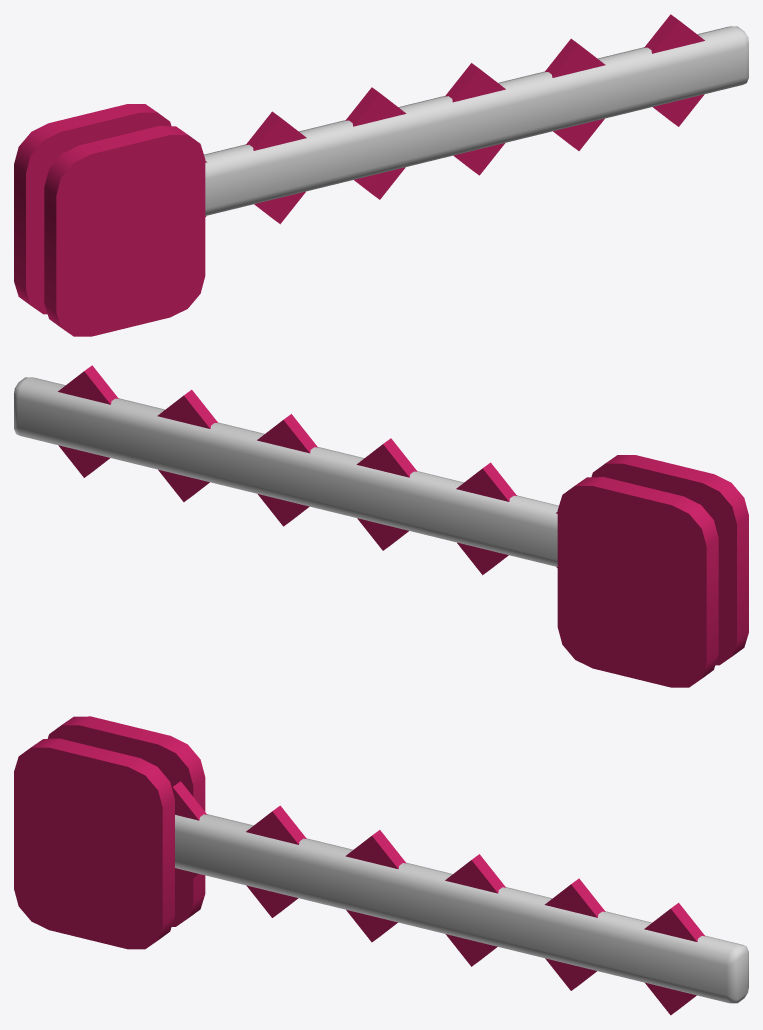
File: gate_pink.fbx
3 renders of one model, top to bottom at view 1: azimuth 30°, elevation 25°; view 2: azimuth 150°, elevation 25°; view 3: azimuth 330°, elevation 25°, orthographic.
Visible parts, largest first — view 1: gate_pink_serve, gate_pink_main; view 2: gate_pink_serve, gate_pink_main; view 3: gate_pink_serve, gate_pink_main.
Part boxes in pixels (left/top/right/bottom): gate_pink_serve: left=204, top=14, right=748, bottom=224; gate_pink_main: left=14, top=104, right=205, bottom=336; gate_pink_serve: left=14, top=365, right=558, bottom=575; gate_pink_main: left=557, top=455, right=748, bottom=687; gate_pink_serve: left=172, top=781, right=748, bottom=1015; gate_pink_main: left=14, top=716, right=205, bottom=949.
Size of the model in its own units: 0.8241 by 0.203 by 0.0856.
